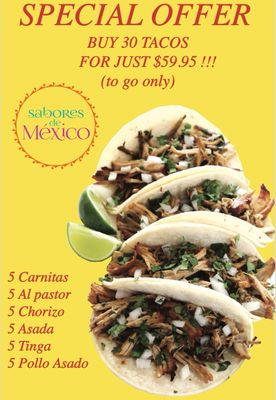curry: (1, 2, 274, 384)
